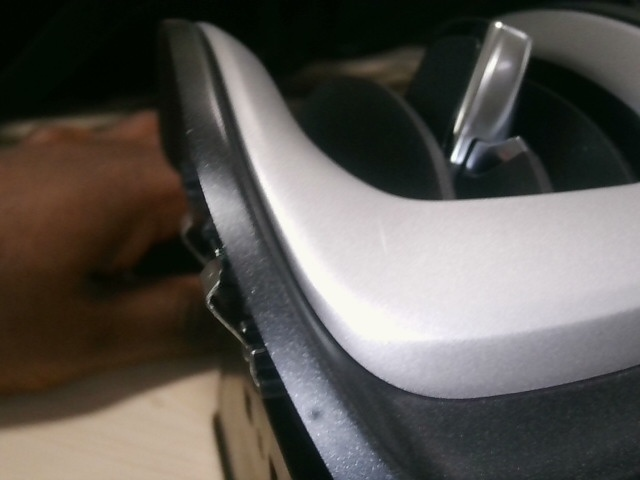NG: (186, 126, 229, 190), (363, 211, 405, 274)
